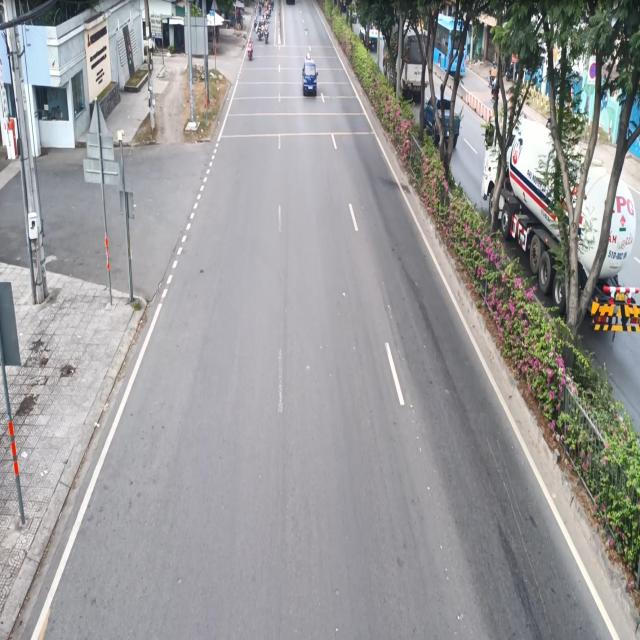car: (300, 52, 320, 102)
